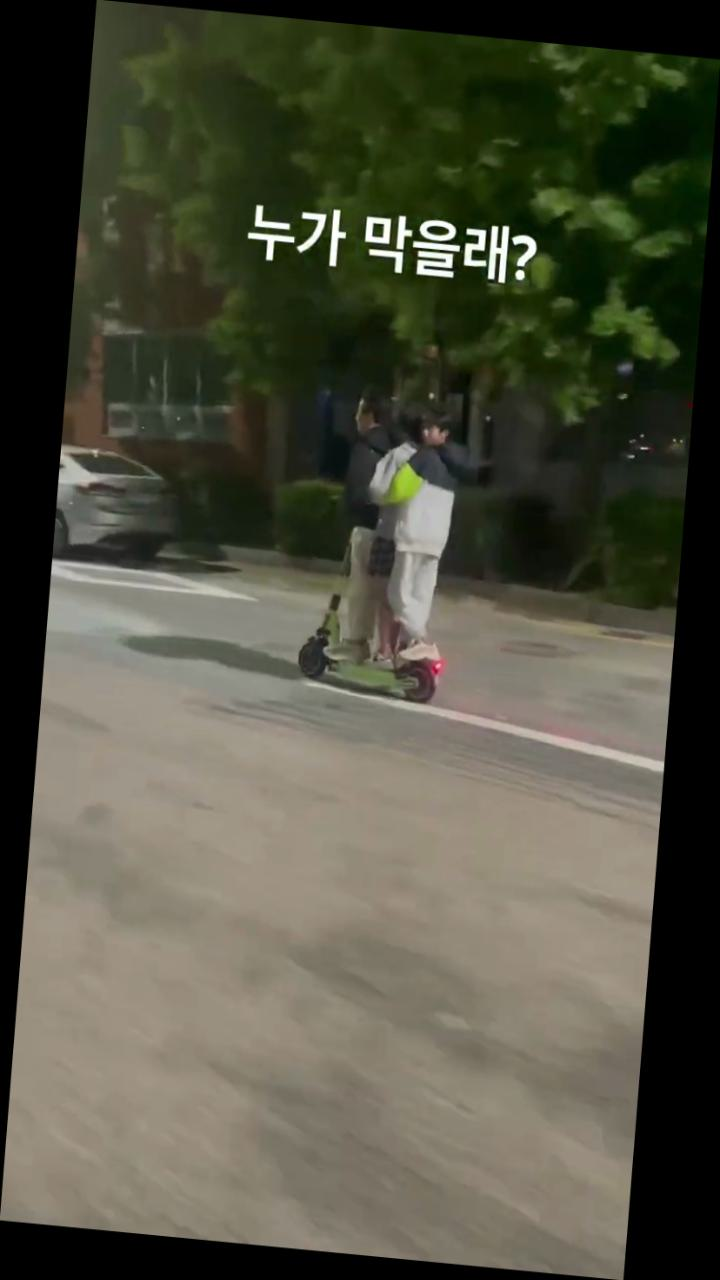multiple: (290, 378, 484, 704)
